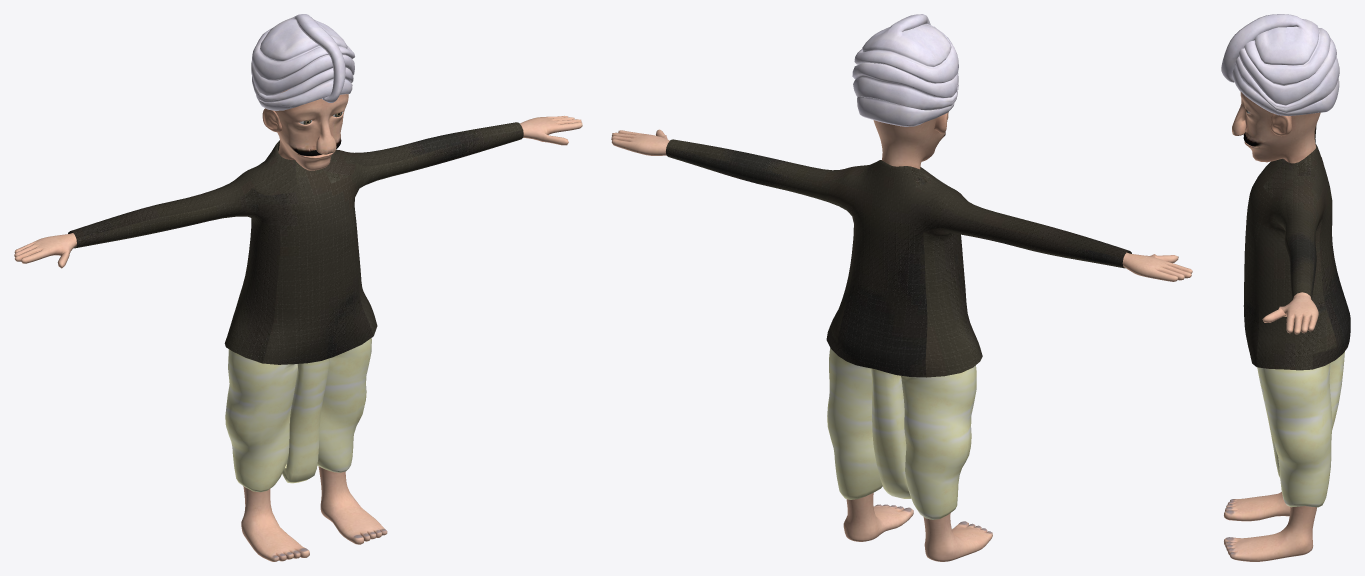
3 views of the same model, side by side, from view 1: azimuth 30°, elevation 25°; view 2: azimuth 150°, elevation 25°; view 3: azimuth 270°, elevation 25° (orthographic). The views are drawn at different scales.
Visible parts, largest first — view 1: Cloth0, leg_cloth, body, top; view 2: Cloth0, leg_cloth, top, body; view 3: Cloth0, top, body (×2), leg_cloth.
Part boxes in pixels (bbox=[...]): Cloth0: bbox=[68, 122, 523, 364]; leg_cloth: bbox=[225, 338, 371, 492]; body: bbox=[14, 88, 582, 561]; top: bbox=[251, 14, 354, 110]; Cloth0: bbox=[666, 139, 1131, 377]; leg_cloth: bbox=[827, 348, 976, 519]; top: bbox=[852, 14, 958, 126]; body: bbox=[611, 117, 1192, 561]; Cloth0: bbox=[1243, 124, 1350, 370]; top: bbox=[1221, 14, 1339, 116]; body (×2): bbox=[1224, 92, 1320, 561]; leg_cloth: bbox=[1257, 352, 1344, 507].
Size of the model in its own units: 1.99 by 1.73 by 0.3905.
6 materials, 6 textured.
